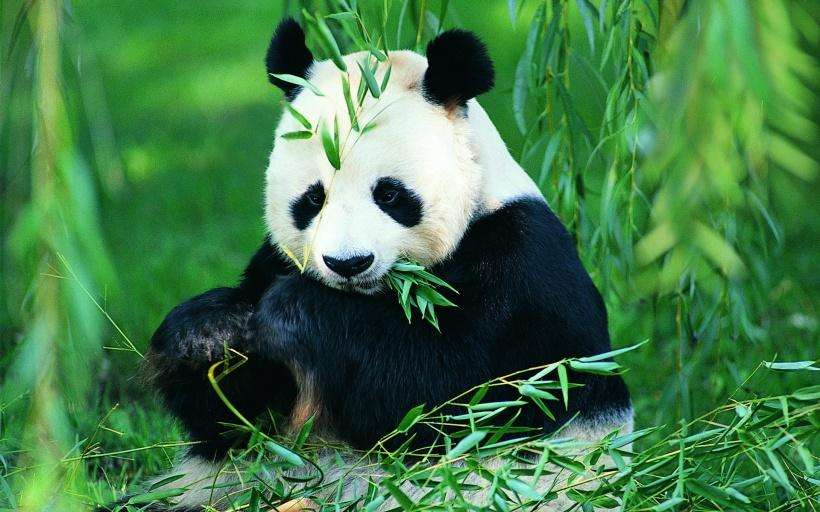panda: (140, 19, 637, 512)
